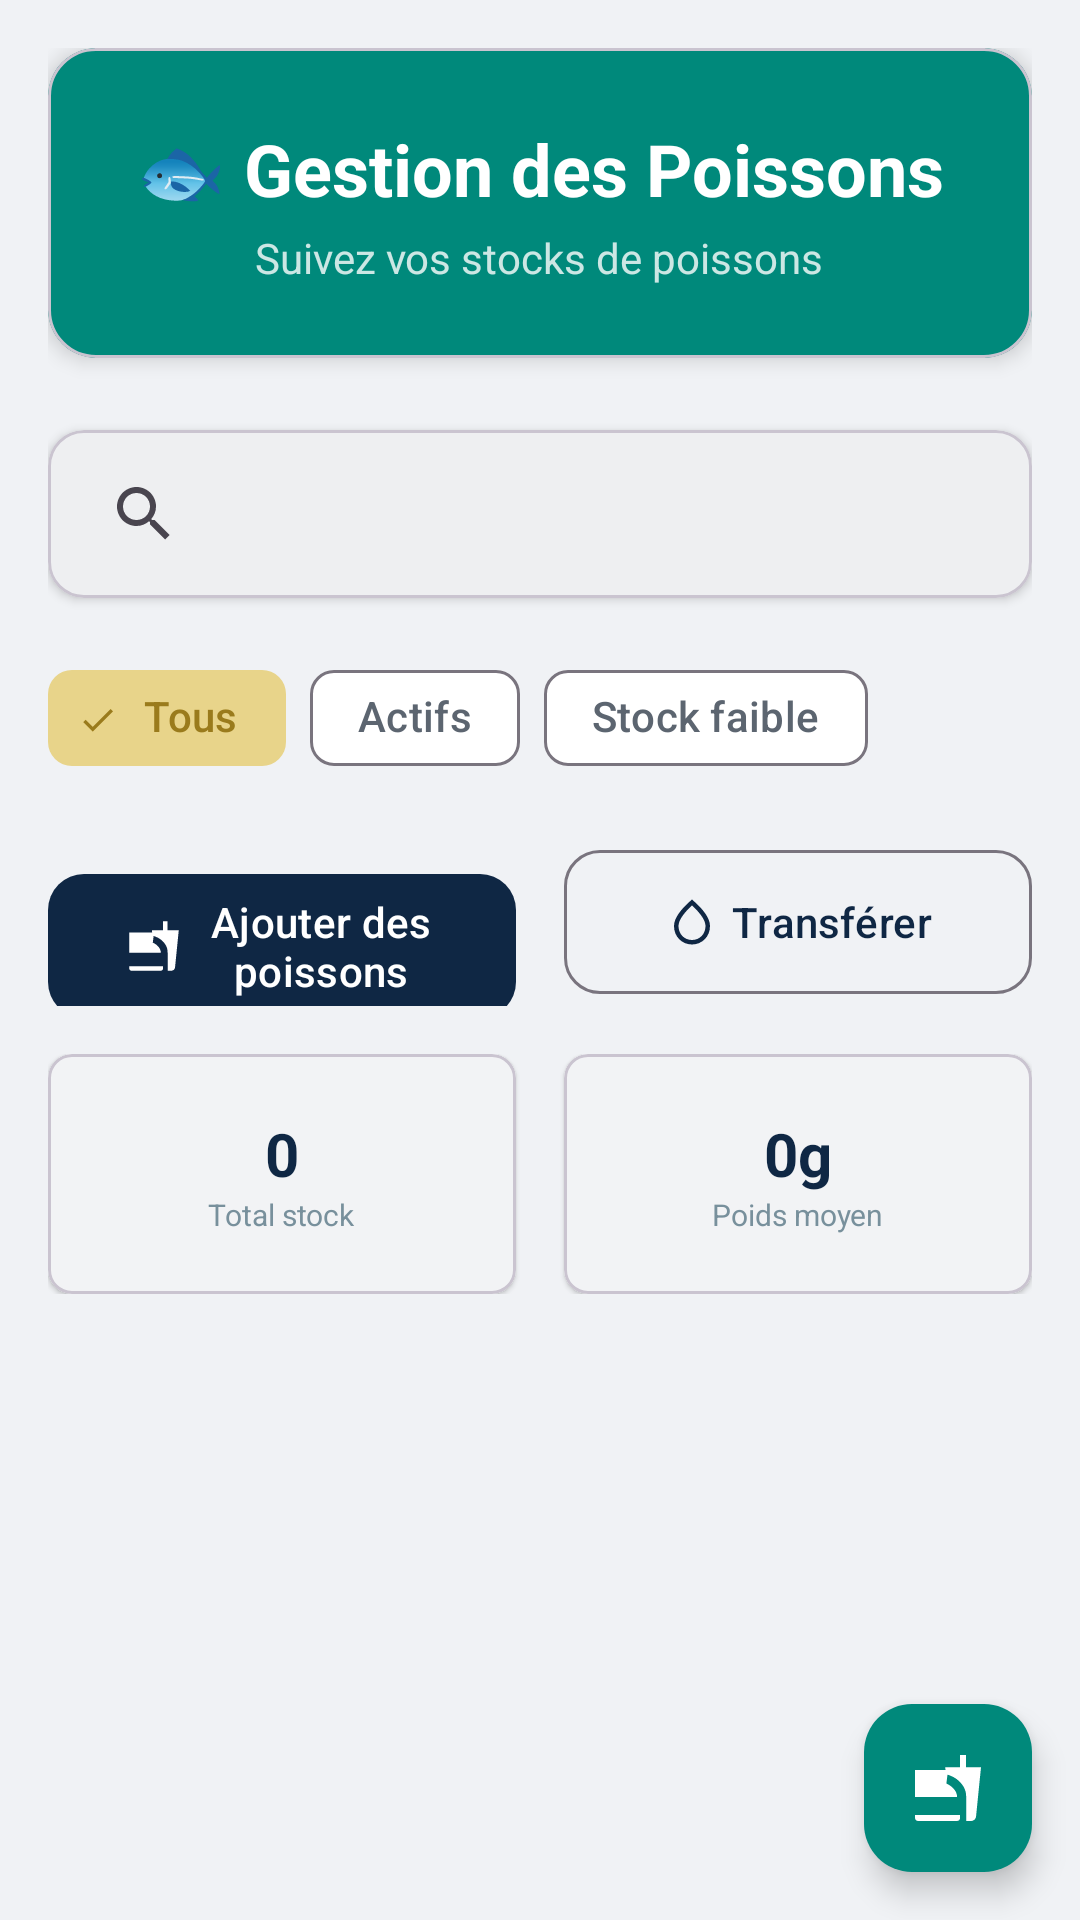

Screen size 1080×1920. Icon name, then its center in pixels as point (x, y):
food: point (948, 1788)
